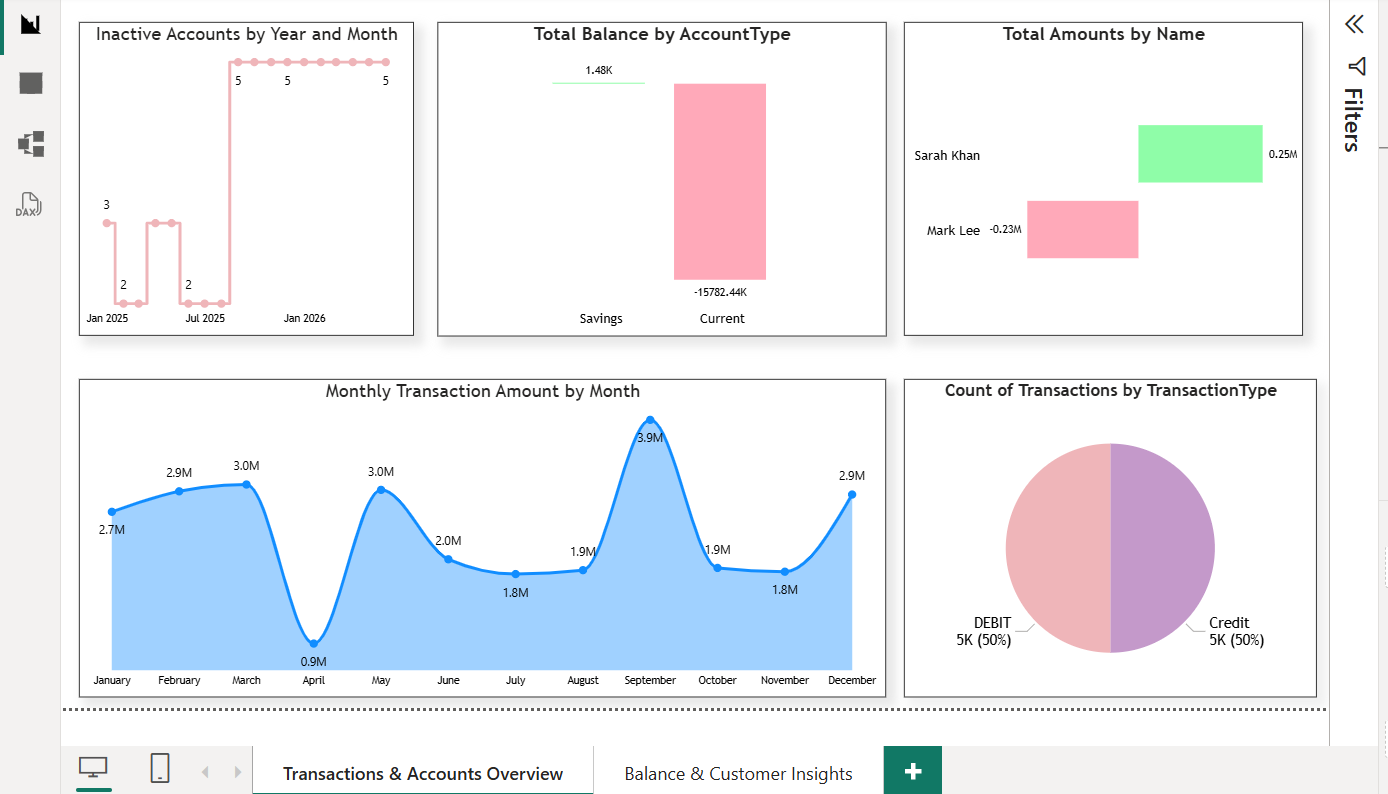

The dashboard page shown, as its layout file describes it:
{"tool":"powerbi","page":{"name":"Transactions & Accounts Overview","canvas":[1280,720],"ordinal":0},"visuals":[{"type":"pieChart","fields":{"Category":["CombinedBankingDataset.TransactionType"],"Y":["Measures Table (2).Count of Transactions"]},"box":[850.6,387.3,416.5,321.5],"z":0},{"type":"areaChart","fields":{"Category":["CombinedBankingDataset.TransactionDate.Variation.Date Hierarchy.Month"],"Y":["Measures Table (2).Monthly Transaction Amount"]},"box":[18.2,387.6,814.6,321],"z":1000},{"type":"barChart","title":"Total Amounts by Name","fields":{"Category":["CombinedBankingDataset.Name"],"Y":["Sum(CombinedBankingDataset.Amount)"]},"box":[851,27.3,402.8,316.5],"z":2000},{"type":"clusteredColumnChart","fields":{"Y":["Measures Table (2).Total Balance"],"Category":["CombinedBankingDataset.AccountType"]},"box":[380,27.8,453.1,317.1],"z":3000},{"type":"lineChart","fields":{"Y":["Measures Table (2).Inactive Accounts"],"Category":["CombinedBankingDataset.TransactionDate.Variation.Date Hierarchy.Year","CombinedBankingDataset.TransactionDate.Variation.Date Hierarchy.Month"]},"box":[18.2,27.3,337.7,316.5],"z":4000}]}

Visuals, with their boxes on the page's 1280x720 design canvas (x1, y1, x2, y2). These are canvas units, not pixel positions in the 1388x794 screenshot, which may show the page scaled, cropped or inside an application window:
pieChart - CombinedBankingDataset.TransactionType x Measures Table (2).Count of Transactions: pyautogui.locateOnScreen(851, 387, 1267, 709)
areaChart - CombinedBankingDataset.TransactionDate.Variation.Date Hierarchy.Month x Measures Table (2).Monthly Transaction Amount: pyautogui.locateOnScreen(18, 388, 833, 709)
"Total Amounts by Name" barChart: pyautogui.locateOnScreen(851, 27, 1254, 344)
clusteredColumnChart - Measures Table (2).Total Balance x CombinedBankingDataset.AccountType: pyautogui.locateOnScreen(380, 28, 833, 345)
lineChart - Measures Table (2).Inactive Accounts x CombinedBankingDataset.TransactionDate.Variation.Date Hierarchy.Year: pyautogui.locateOnScreen(18, 27, 356, 344)
